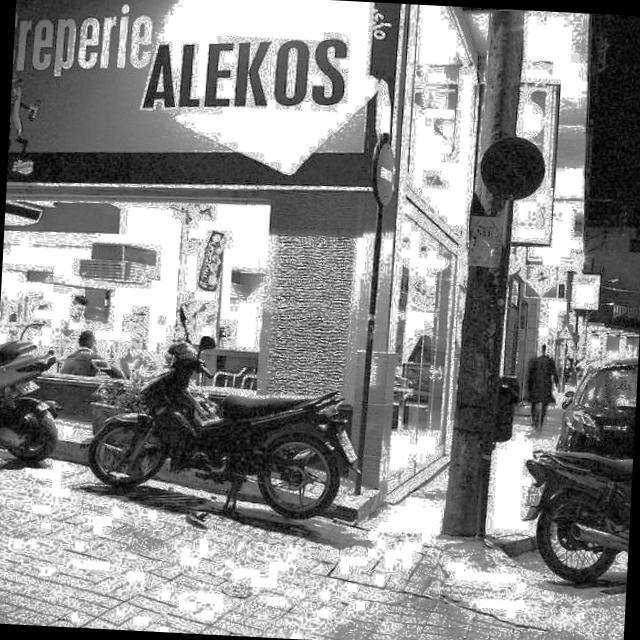Motorcycle: (70, 346, 386, 524), (496, 429, 634, 622), (0, 310, 59, 495)
